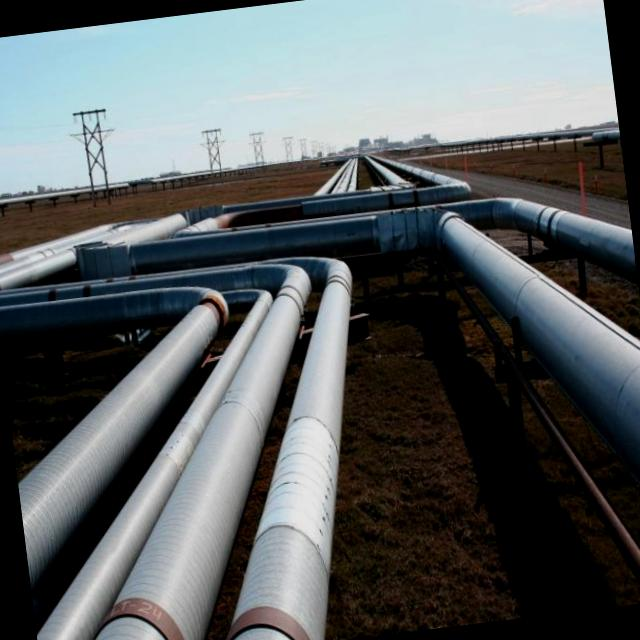gas: (36, 291, 272, 640), (94, 274, 310, 640), (18, 302, 219, 592), (77, 197, 638, 296), (438, 213, 640, 484), (227, 257, 351, 640), (440, 197, 638, 283), (0, 263, 303, 306), (0, 248, 77, 290), (370, 157, 462, 184), (314, 156, 356, 194), (363, 156, 410, 185)
